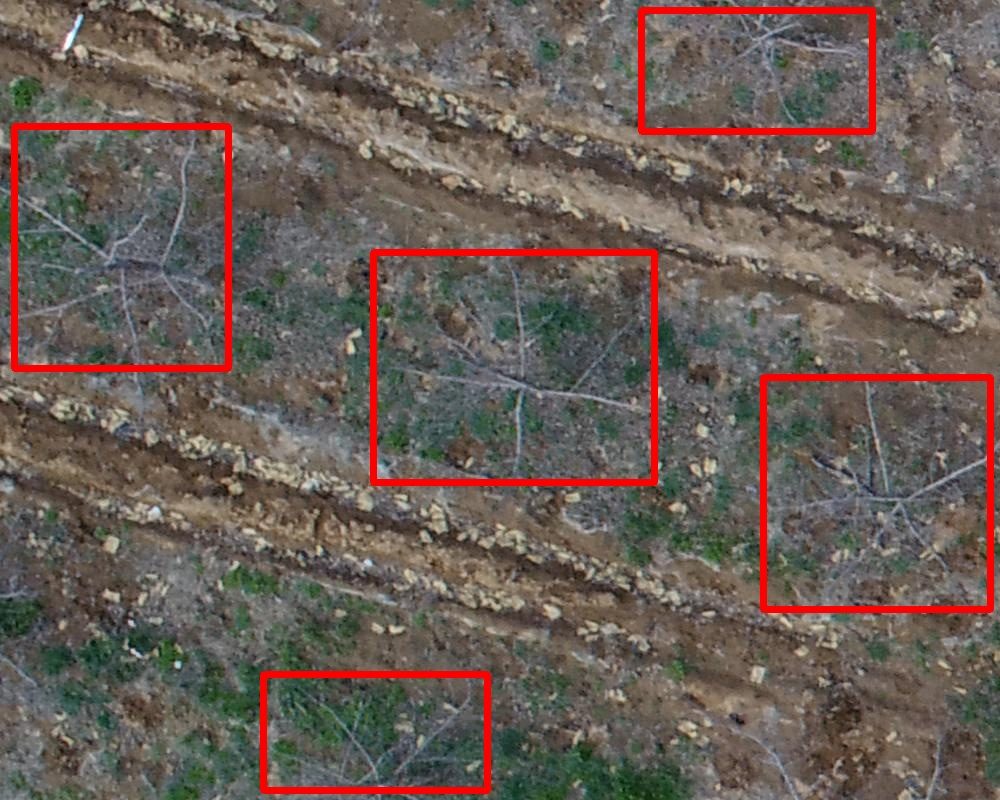apple: (373, 252, 654, 482), (763, 377, 990, 609), (14, 126, 228, 368), (641, 10, 872, 131), (263, 674, 487, 790)
